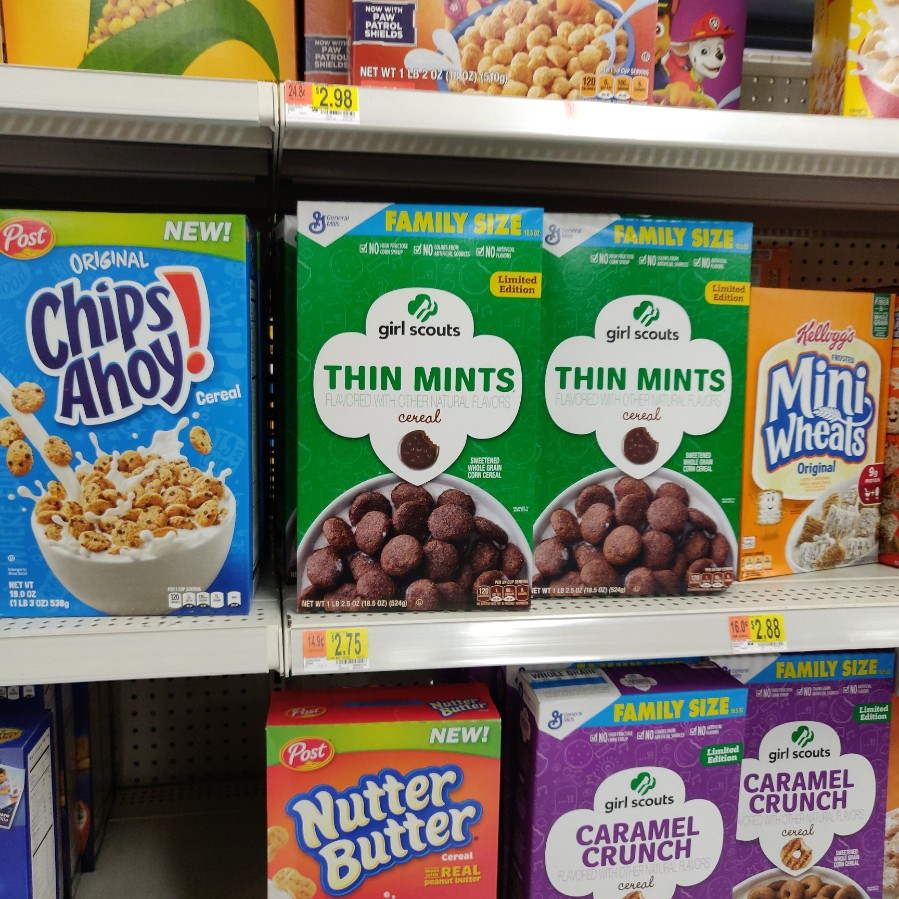Chips Ahoys-565717529: (4, 210, 256, 613)
